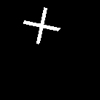single_crochet: (24, 8, 59, 43)
